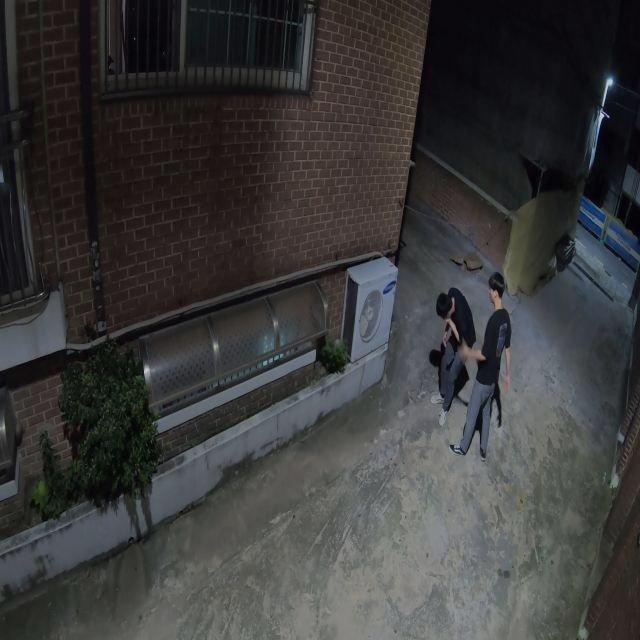fight: (434, 273, 512, 458)
